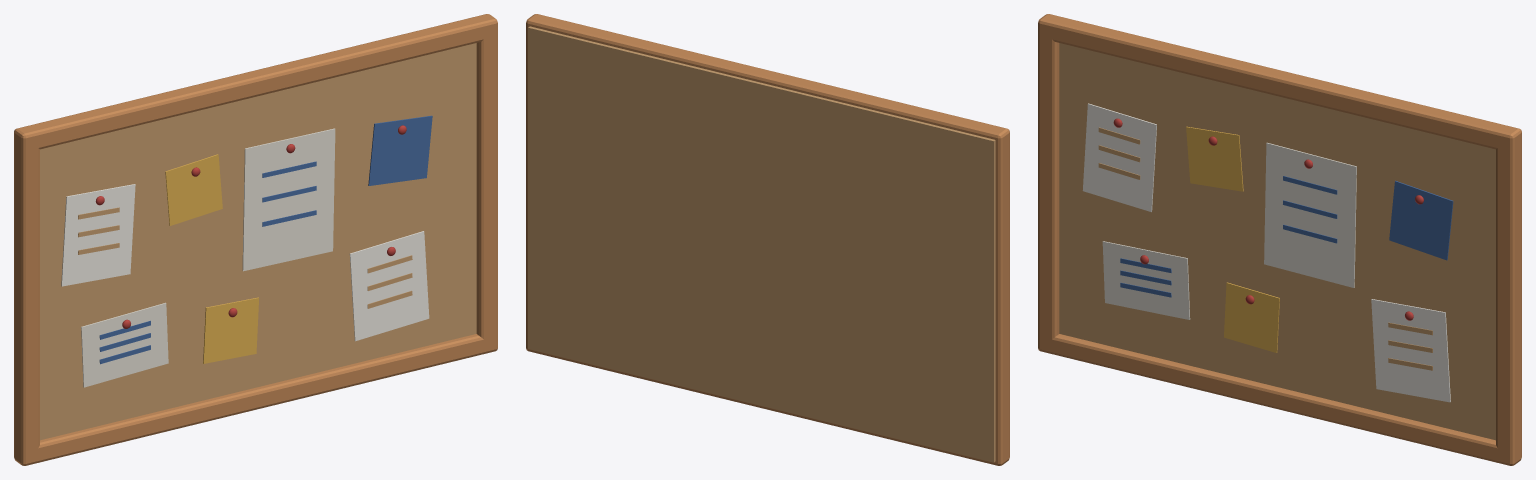
The model's file is hh_cat_notice_board.glb.
3 views of the same model, side by side, from view 1: azimuth 30°, elevation 25°; view 2: azimuth 150°, elevation 25°; view 3: azimuth 330°, elevation 25° (orthographic).
Visible parts, largest first — view 1: cork, frame.001, note.002, frame, frame.002, frame.003, note.006, note, note.004, note.003, note.001, note.005; view 2: back_panel, frame.001, frame.002, frame, frame.003; view 3: cork, frame.001, frame, note.002, frame.003, frame.002, note.006, note, note.004, note.003, note.001, note.005.
Part boxes in pixels (left/top/right/bottom): cork: left=40, top=43, right=476, bottom=440; frame.001: left=14, top=17, right=497, bottom=150; note.002: left=242, top=128, right=335, bottom=271; frame: left=16, top=334, right=497, bottom=465; frame.002: left=14, top=125, right=39, bottom=465; frame.003: left=475, top=14, right=497, bottom=353; note.006: left=349, top=231, right=429, bottom=341; note: left=61, top=184, right=135, bottom=286; note.004: left=81, top=302, right=168, bottom=387; note.003: left=368, top=115, right=432, bottom=185; note.001: left=165, top=154, right=222, bottom=225; note.005: left=203, top=297, right=258, bottom=363; back_panel: left=528, top=26, right=995, bottom=462; frame.001: left=526, top=17, right=1009, bottom=150; frame.002: left=986, top=125, right=1009, bottom=465; frame: left=526, top=336, right=1008, bottom=465; frame.003: left=526, top=14, right=548, bottom=353; cork: left=1059, top=43, right=1495, bottom=440; frame.001: left=1038, top=17, right=1521, bottom=150; frame: left=1038, top=334, right=1521, bottom=465; note.002: left=1264, top=142, right=1356, bottom=287; frame.003: left=1496, top=125, right=1521, bottom=465; frame.002: left=1038, top=14, right=1060, bottom=353; note.006: left=1371, top=299, right=1450, bottom=402; note: left=1082, top=103, right=1156, bottom=211; note.004: left=1102, top=241, right=1190, bottom=319; note.003: left=1389, top=180, right=1453, bottom=260; note.001: left=1186, top=126, right=1243, bottom=191; note.005: left=1224, top=282, right=1279, bottom=352.
Size of the model in its own units: 0.9 by 0.6 by 0.04.
